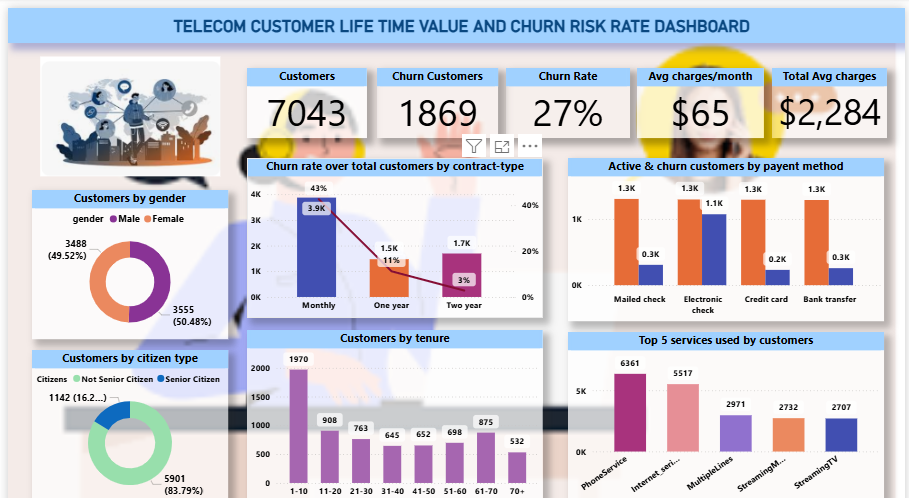

The dashboard page shown, as its layout file describes it:
{"tool":"powerbi","page":{"name":"Summary view","canvas":[1280,720],"ordinal":0},"visuals":[{"type":"card","title":"Customers","fields":{"Values":["Measure Table.Total Customers"]},"box":[341,85.6,171.2,99.9],"z":0},{"type":"card","title":"Churn Customers","fields":{"Values":["Measure Table.Churn Customers"]},"box":[526.6,85.6,172.7,99.9],"z":1000},{"type":"card","title":"Churn Rate","fields":{"Values":["Measure Table.Churn rate"]},"box":[710.6,85.6,176.9,99.9],"z":2000},{"type":"card","title":"Avg charges/month","fields":{"Values":["Measure Table.Monthly charges"]},"box":[897.6,85.6,181.2,99.9],"z":3000},{"type":"card","title":"Total Avg charges","fields":{"Values":["Measure Table.Total avg charges"]},"box":[1090.2,85.6,164.1,99.9],"z":4000},{"type":"textbox","box":[0,0,1280,49.9],"z":5000},{"type":"donutChart","title":"Customers by gender","fields":{"Category":["Table13.gender"],"Y":["Measure Table.Total Customers"]},"box":[34.2,259.7,279.7,212.6],"z":6000},{"type":"donutChart","title":"Customers by citizen type","fields":{"Category":["Table13.Is_seniorcitizen"],"Y":["Measure Table.Total Customers"]},"box":[34.2,488,279.7,216.9],"z":7000},{"type":"lineClusteredColumnComboChart","title":"Churn rate over total customers by contract-type ","fields":{"Category":["Table13.Contract_status"],"Y":["Measure Table.Total Customers"],"Y2":["Measure Table.Churn rate"]},"box":[341,214,422.4,228.3],"z":8000},{"type":"lineClusteredColumnComboChart","title":"Customers by tenure","fields":{"Category":["Churn Customer.tenure_range"],"Y":["Measure Table.Total Customers"]},"box":[341,459.5,422.4,248.3],"z":9000},{"type":"lineClusteredColumnComboChart","title":"Active & churn customers by payent method","fields":{"Y":["Measure Table.Active Customers","Measure Table.Churn Customers"],"Category":["Churn Customer.PaymentMethod"]},"box":[799.1,214,450.9,232.6],"z":10000},{"type":"lineClusteredColumnComboChart","title":"Top 5 services used by customers","fields":{"Category":["Services.Attribute"],"Y":["Measure Table.Customers by services"]},"box":[799.1,462.3,450.9,242.6],"z":11000},{"type":"image","box":[30,64.2,288.2,181.2],"z":12000}]}

Visuals, with their boxes in screenshot pixels (x1, y1, x2, y2), scaled from the page's 1280x720 canvas onto the 909x498 screenshot:
"Customers" card: Rect(242, 59, 364, 128)
"Churn Customers" card: Rect(374, 59, 497, 128)
"Churn Rate" card: Rect(505, 59, 630, 128)
"Avg charges/month" card: Rect(637, 59, 766, 128)
"Total Avg charges" card: Rect(774, 59, 891, 128)
textbox: Rect(0, 0, 908, 35)
"Customers by gender" donutChart: Rect(24, 180, 223, 327)
"Customers by citizen type" donutChart: Rect(24, 338, 223, 488)
"Churn rate over total customers by contract-type " lineClusteredColumnComboChart: Rect(242, 148, 542, 306)
"Customers by tenure" lineClusteredColumnComboChart: Rect(242, 318, 542, 490)
"Active & churn customers by payent method" lineClusteredColumnComboChart: Rect(567, 148, 888, 309)
"Top 5 services used by customers" lineClusteredColumnComboChart: Rect(567, 320, 888, 488)
image: Rect(21, 44, 226, 170)
